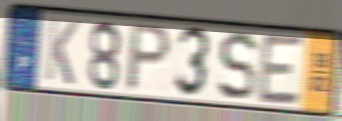3: (170, 24, 215, 100)
8: (87, 19, 122, 92)
E: (256, 32, 306, 109)
K: (42, 16, 81, 88)
P: (123, 22, 174, 94)
S: (216, 29, 260, 104)
